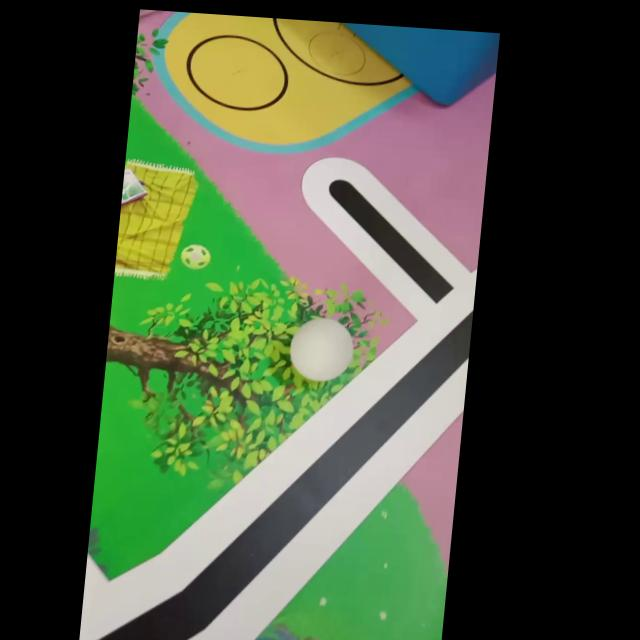white ball: (285, 315, 356, 384)
